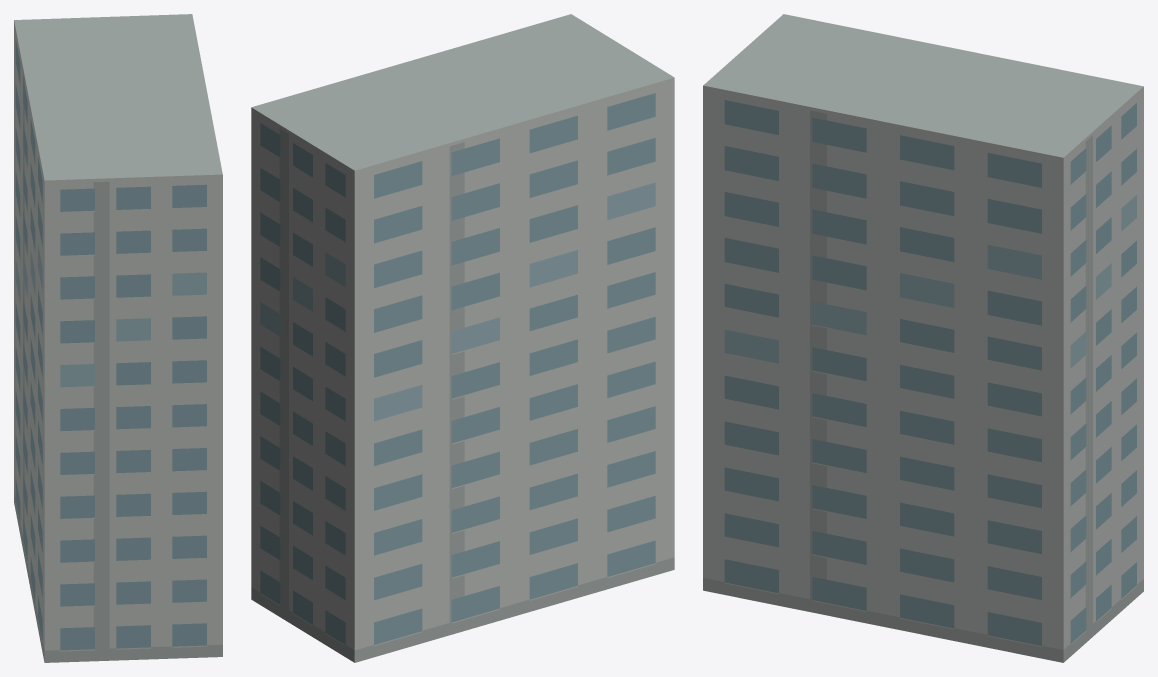
The model's file is residential-2ae69fa7-3595-4e1b-9140-5a8d4e882508.glb.
3 views of the same model, side by side, from view 1: azimuth 30°, elevation 25°; view 2: azimuth 150°, elevation 25°; view 3: azimuth 270°, elevation 25° (orthographic). The views are drawn at different scales.
Visible parts, largest first — view 1: residential-2ae69fa7-3595-4e1b-9140-5a8d4e882508.tmp; view 2: residential-2ae69fa7-3595-4e1b-9140-5a8d4e882508.tmp; view 3: residential-2ae69fa7-3595-4e1b-9140-5a8d4e882508.tmp.
Boxes of the visible parts, bbox=[...] form: residential-2ae69fa7-3595-4e1b-9140-5a8d4e882508.tmp: bbox=[14, 14, 222, 662]; residential-2ae69fa7-3595-4e1b-9140-5a8d4e882508.tmp: bbox=[251, 14, 674, 662]; residential-2ae69fa7-3595-4e1b-9140-5a8d4e882508.tmp: bbox=[703, 14, 1143, 662].
Bounding box in the file's own units: 21.99 × 36 × 28.48.
